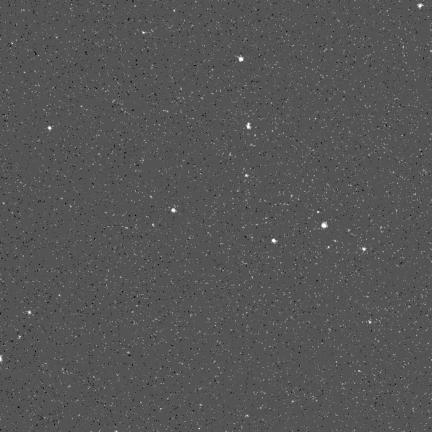blob: (322, 222, 328, 228), (417, 3, 423, 8), (171, 208, 176, 213), (238, 57, 243, 62), (247, 123, 251, 129), (272, 239, 277, 243), (362, 247, 366, 251), (48, 126, 51, 131), (245, 174, 248, 177)
